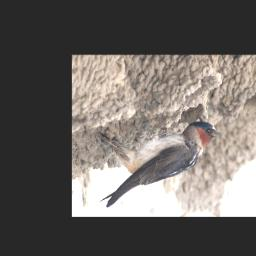Swallow: (95, 120, 223, 208)
